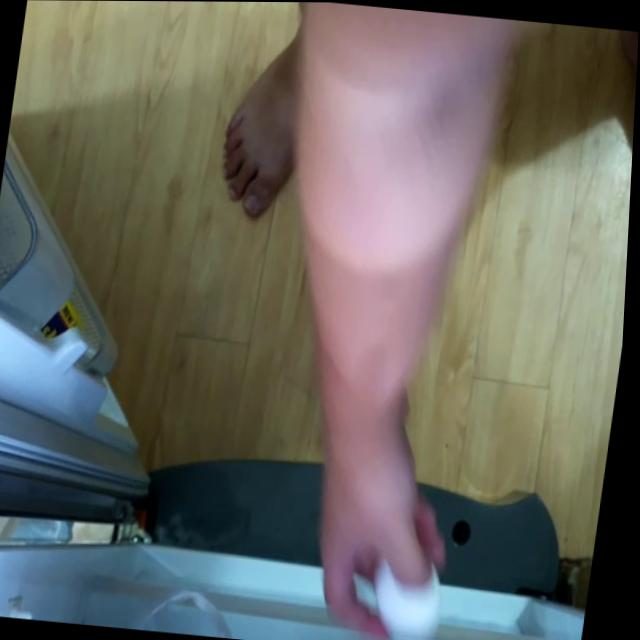egg: (371, 547, 455, 640)
